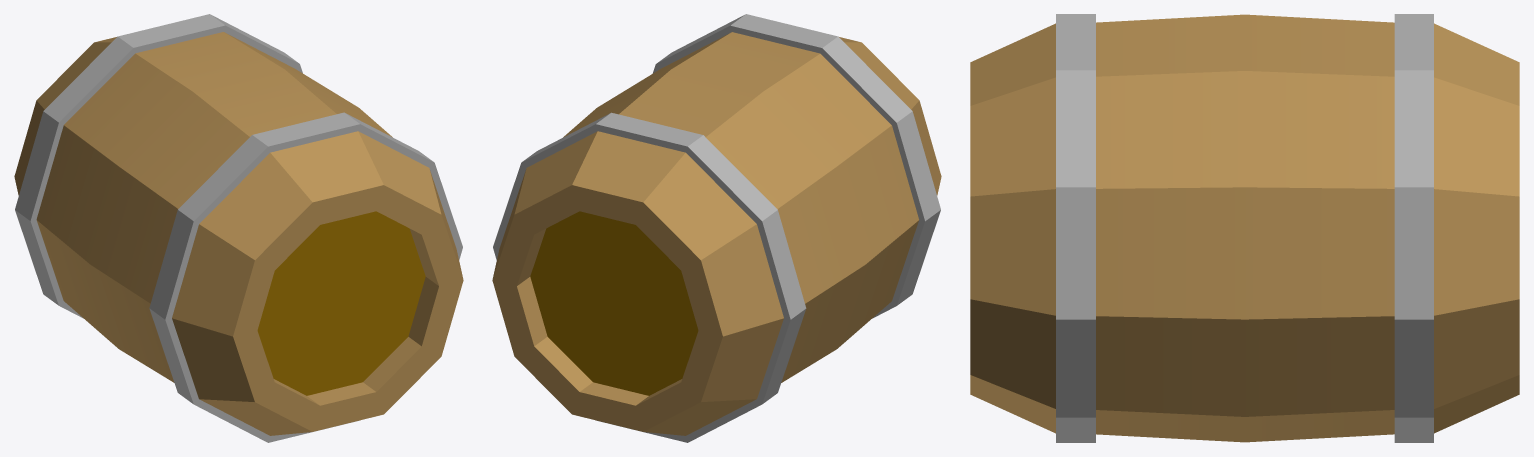
The model's file is Barrel.fbx.
3 views of the same model, side by side, from view 1: azimuth 30°, elevation 25°; view 2: azimuth 150°, elevation 25°; view 3: azimuth 270°, elevation 25° (orthographic). The views are drawn at different scales.
Visible parts, largest first — view 1: Barrel_Sealed; view 2: Barrel_Sealed; view 3: Barrel_Sealed.
Boxes of the visible parts, box(x1,y1,x2,y2) form: Barrel_Sealed: box(14, 14, 463, 442); Barrel_Sealed: box(492, 14, 941, 442); Barrel_Sealed: box(970, 14, 1519, 442).
Size of the model in its own units: 1.07 by 1.02 by 1.36.
